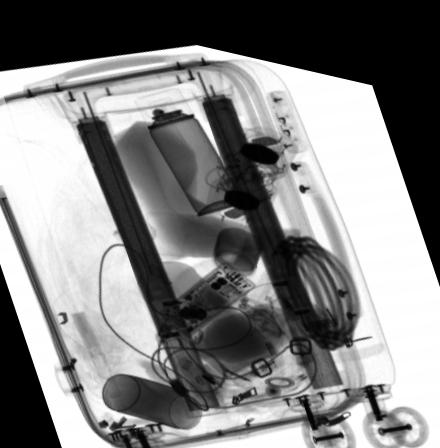Sprayer: (136, 78, 244, 206)
